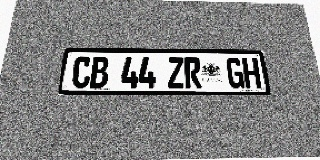4: (121, 57, 139, 88), (139, 57, 156, 88)
B: (90, 57, 109, 88)
C: (71, 56, 92, 88)
G: (226, 58, 245, 88)
H: (242, 58, 262, 88)
R: (184, 57, 202, 88)
Z: (167, 57, 185, 88)
